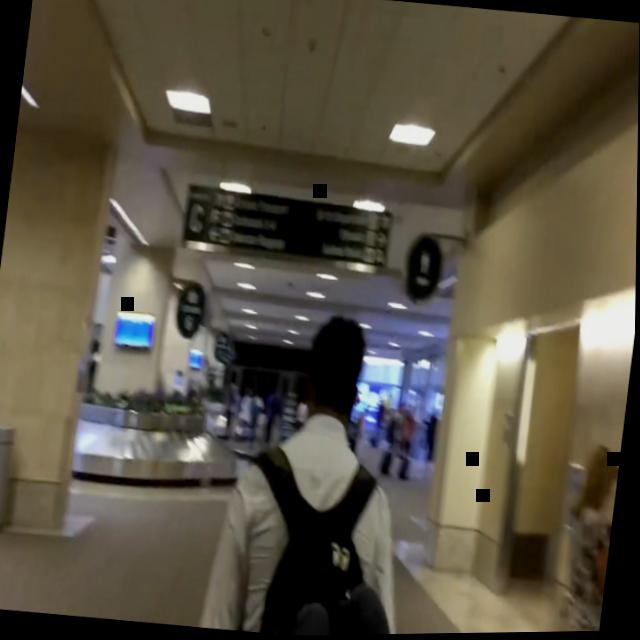luggage: (378, 451, 395, 477), (397, 459, 412, 484)
